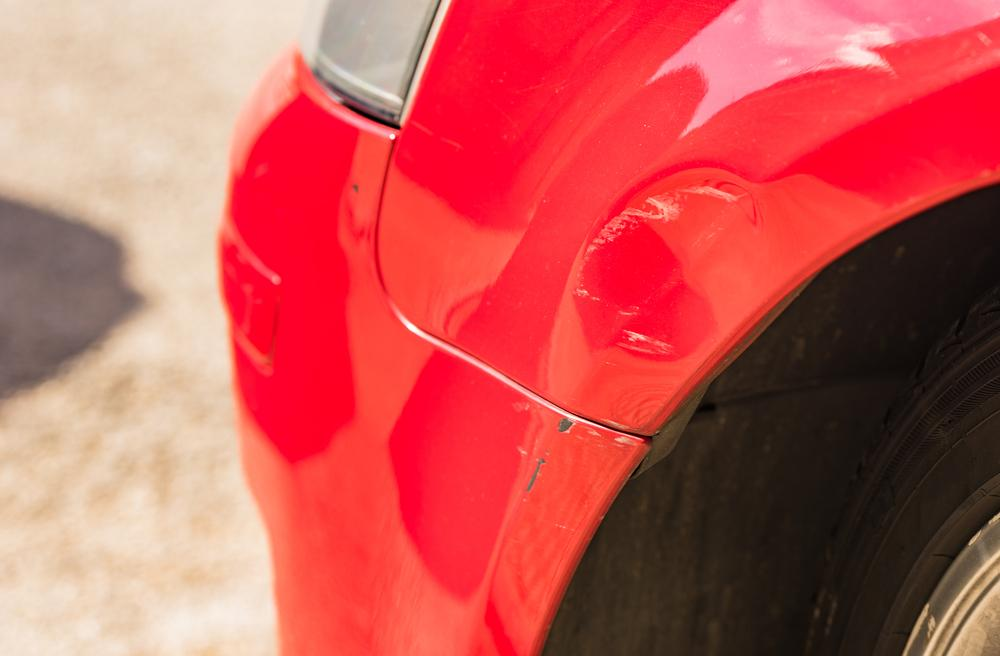dent: (580, 170, 767, 365)
scratch: (505, 394, 637, 497)
